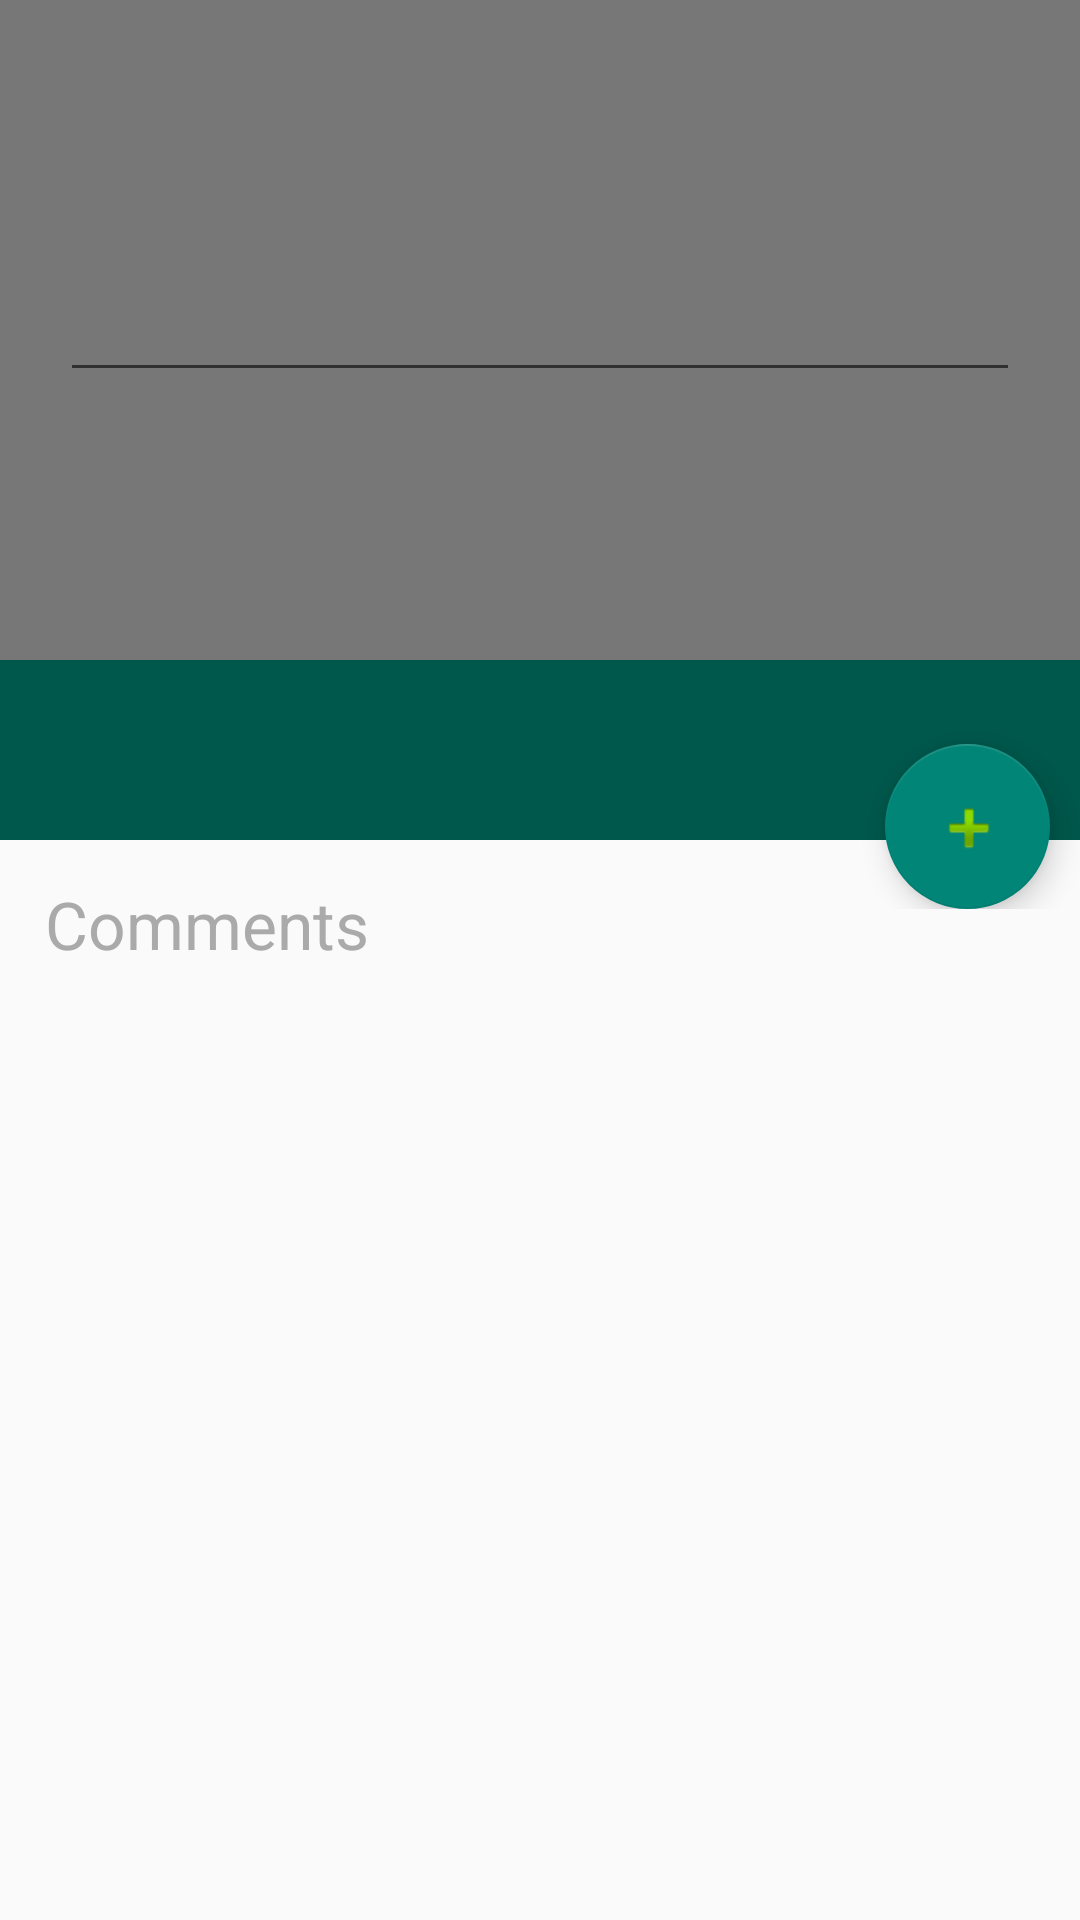

Icons on this 1080w x 1920h Android screen, each with the point to tap as [x,y]:
add: [967,826]
